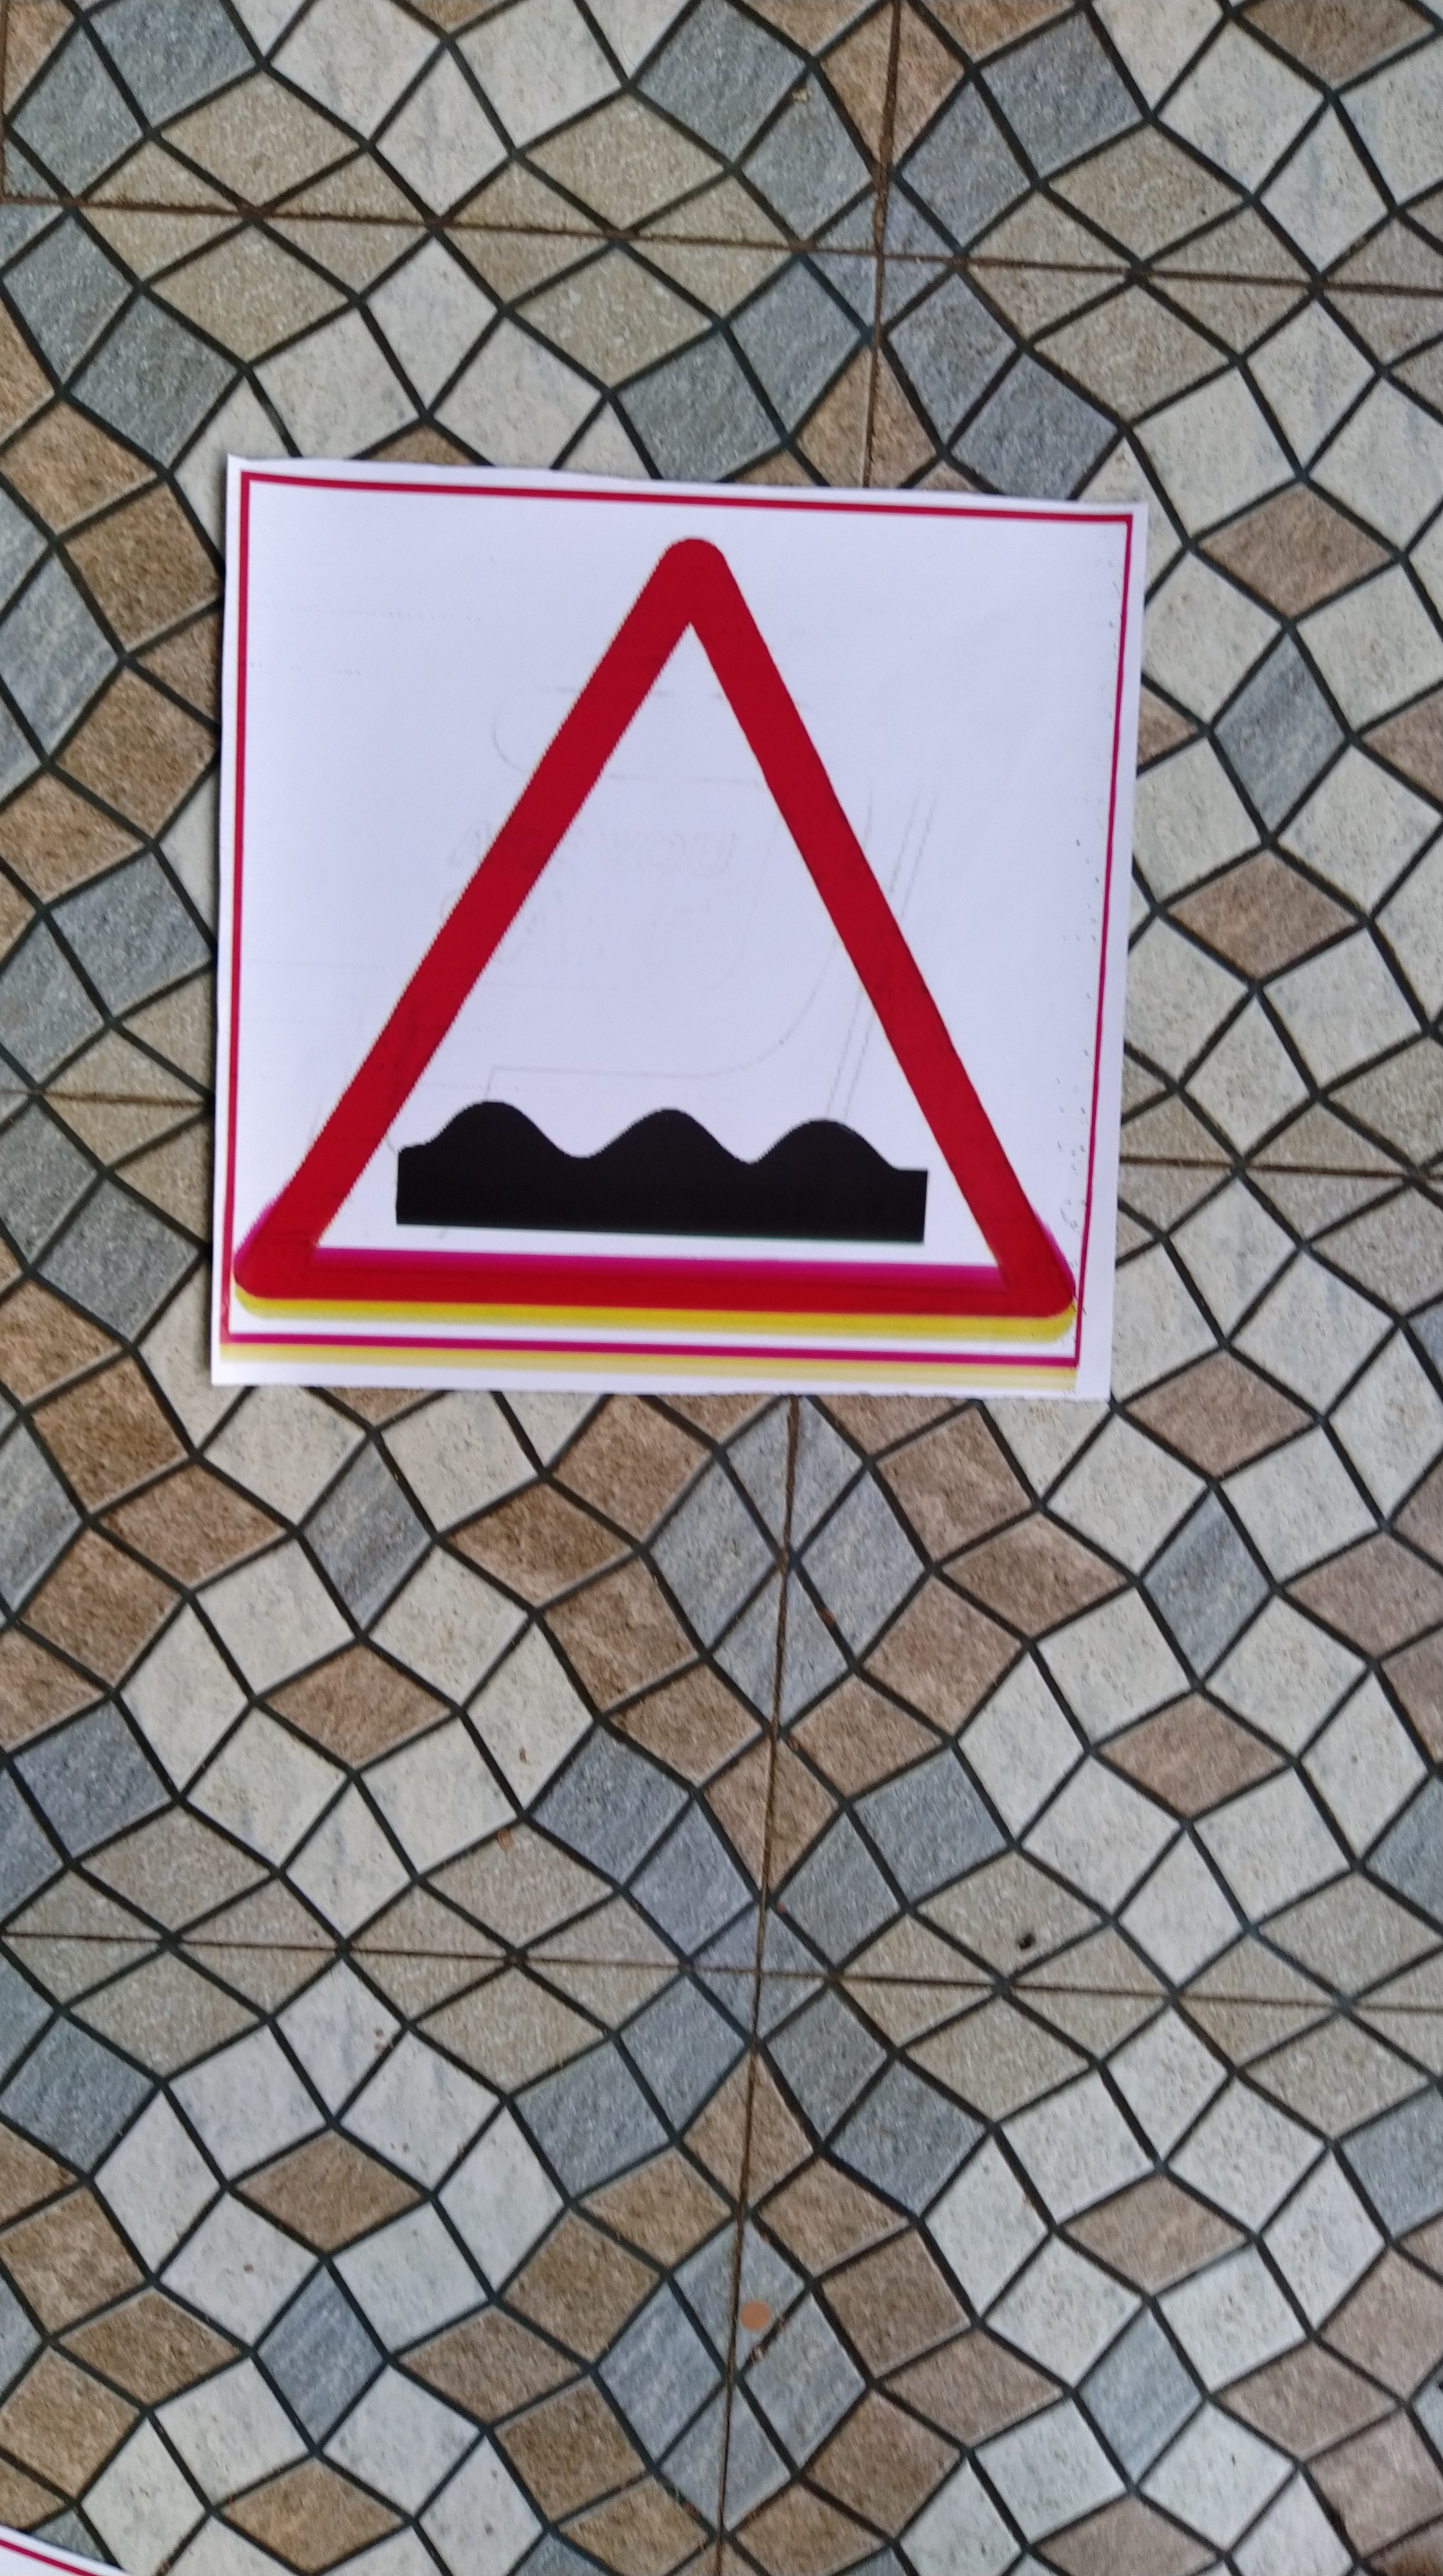speed breaker: (228, 462, 1110, 1391)
